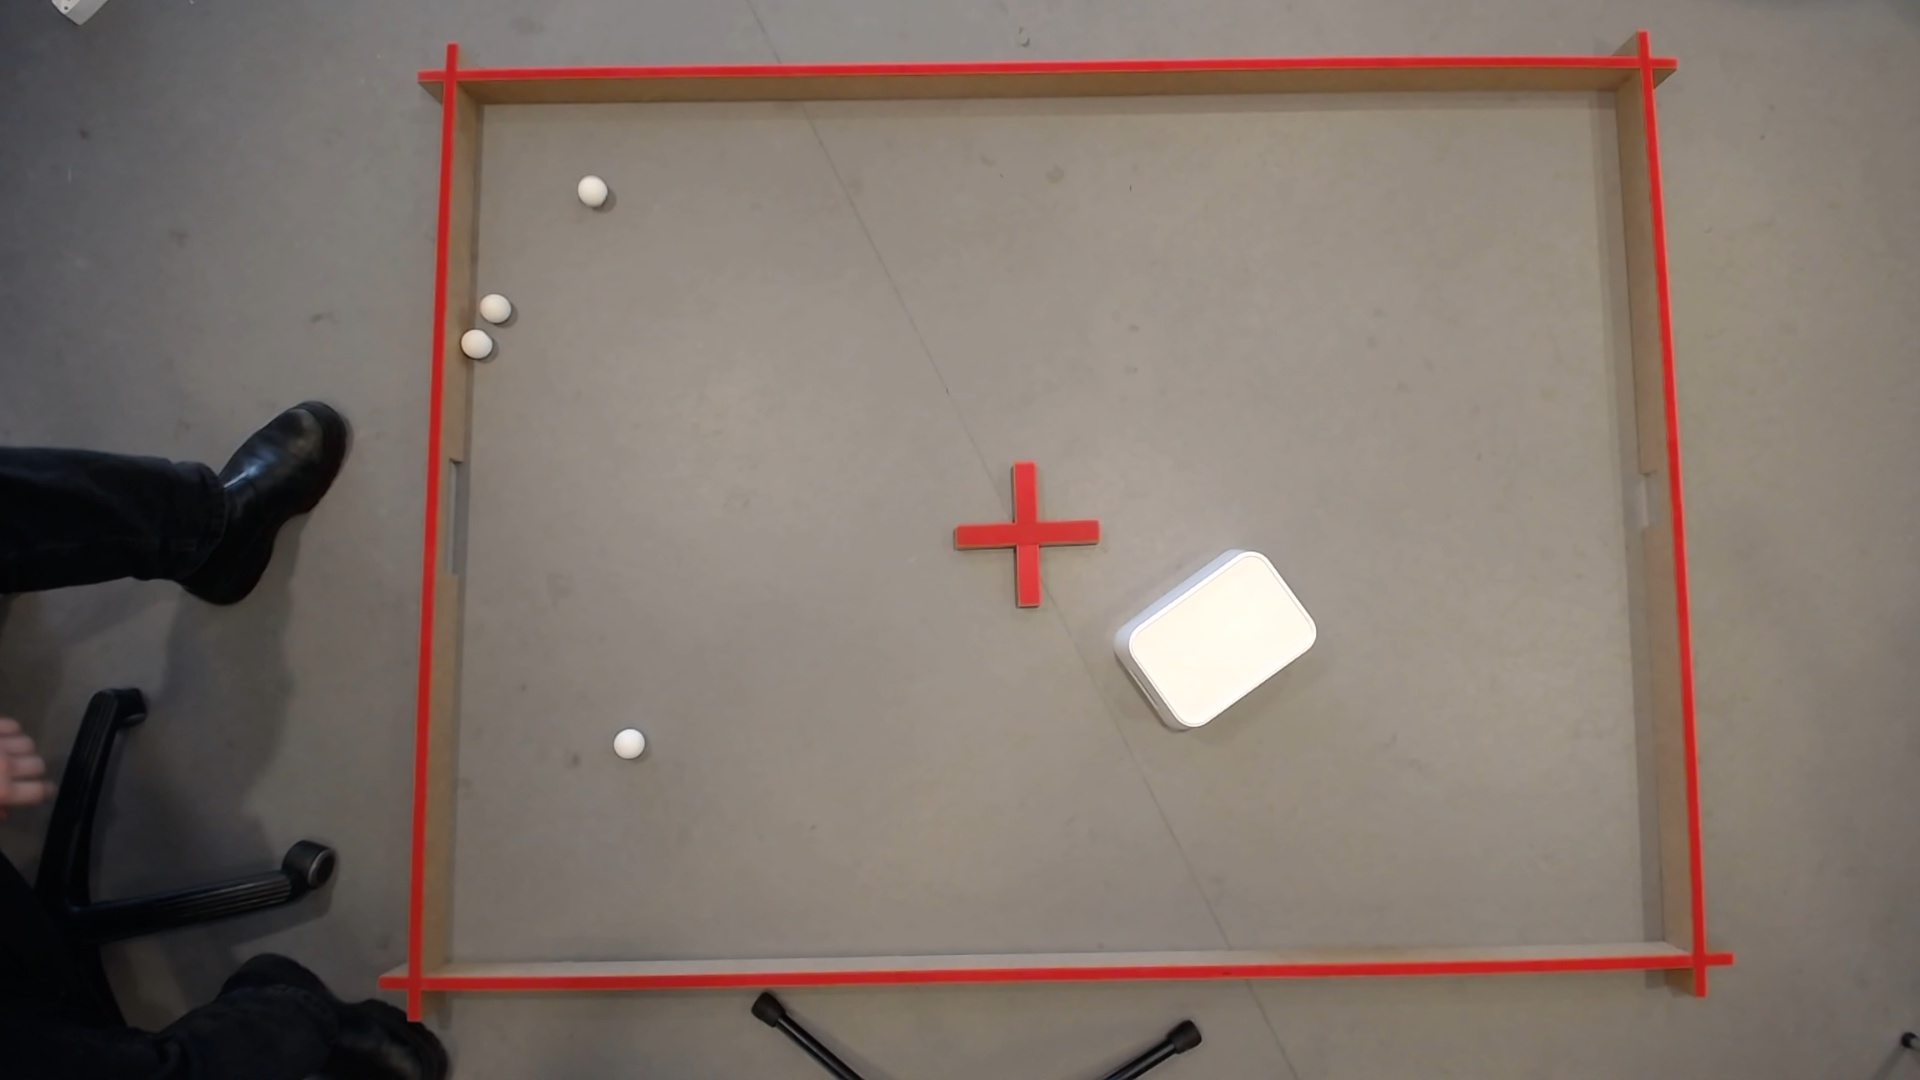balls: (1113, 533, 1325, 736), (611, 723, 646, 758), (574, 171, 608, 204), (459, 324, 492, 355)
car: (477, 289, 509, 318)
